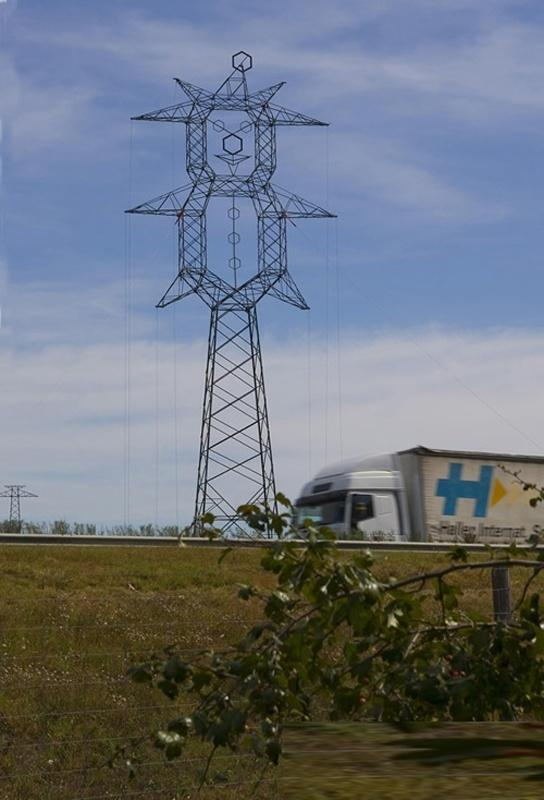power_tower: (130, 58, 327, 513)
